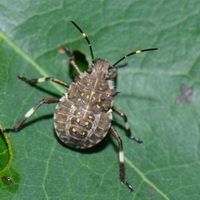insect: (0, 21, 157, 190)
